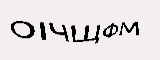Ж: (37, 20, 62, 45)
И: (64, 23, 83, 49)
С: (113, 19, 128, 41)
Ш: (87, 23, 107, 46)
Э: (103, 22, 116, 44)
